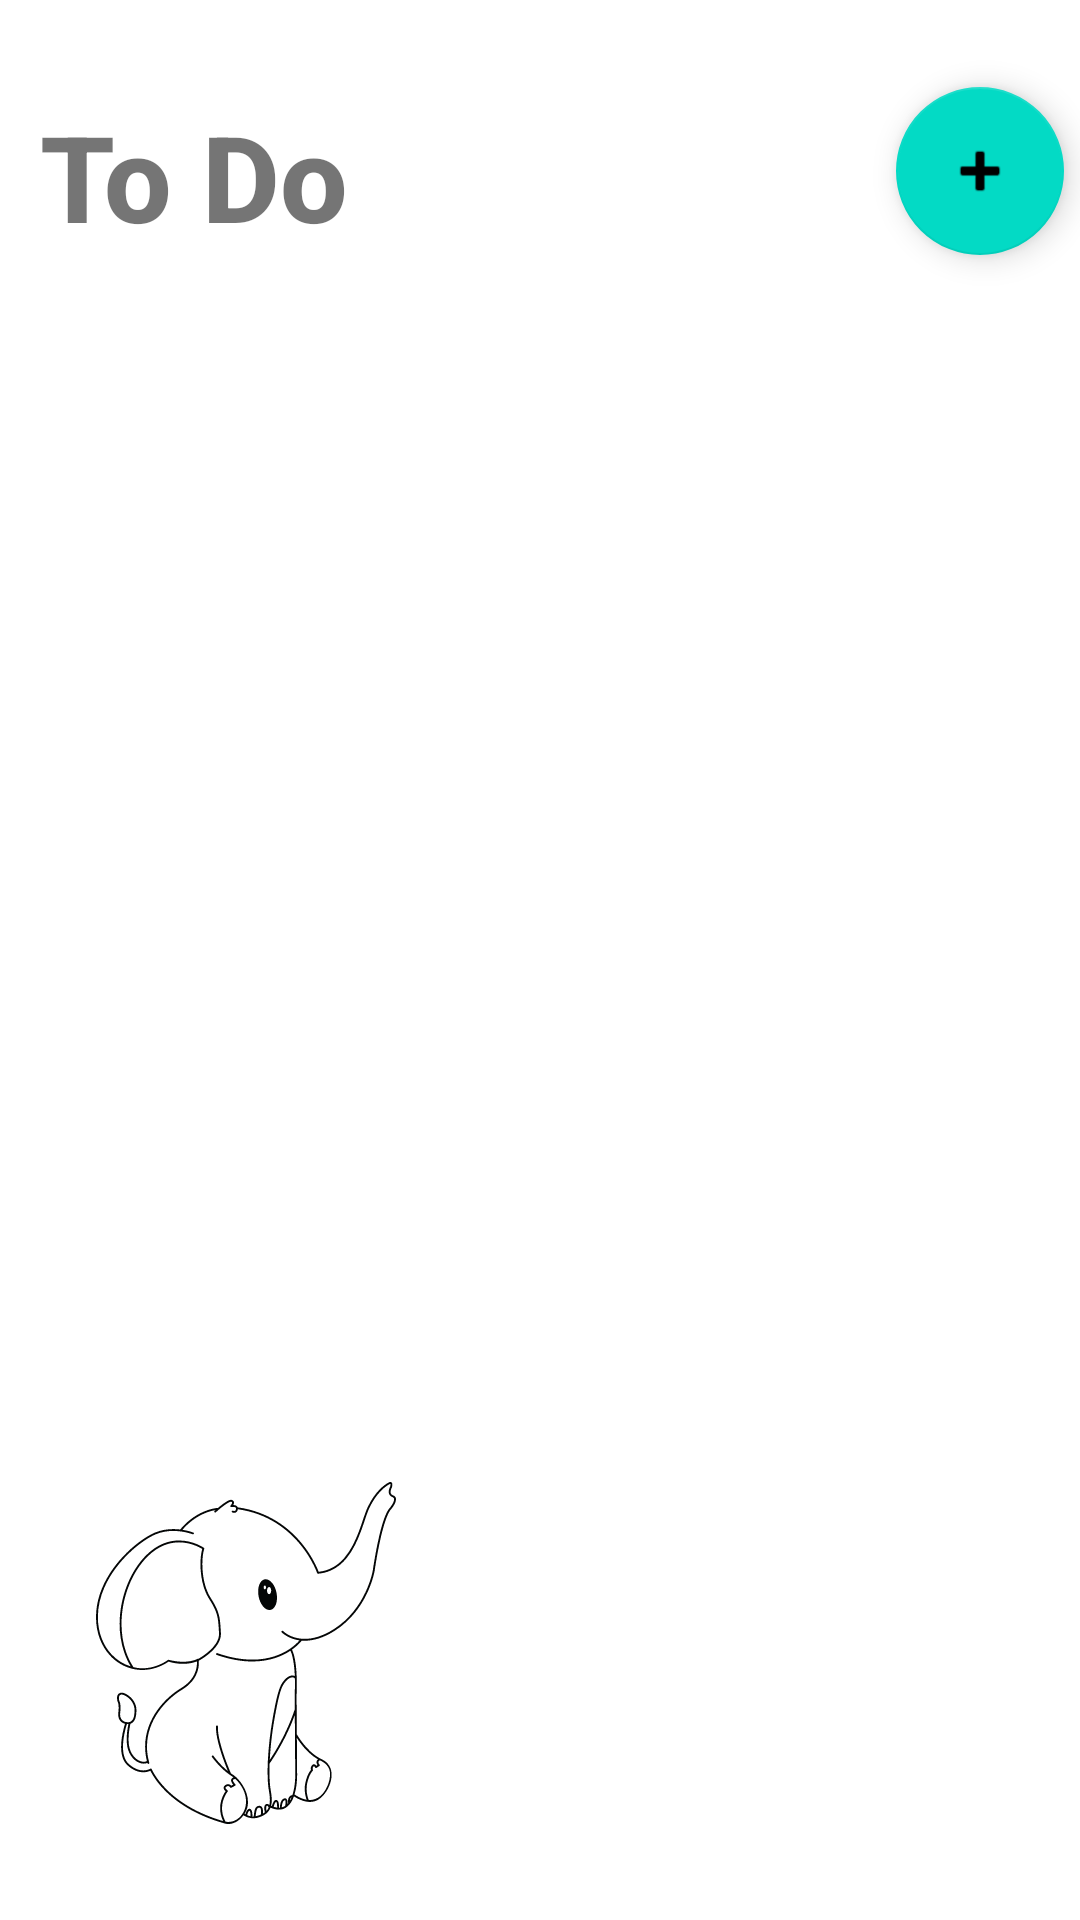

Icons on this 1080px×1920px Android screen, each with the point to tap as point (x, y):
add: point (980, 171)
elephant: point (246, 1653)
